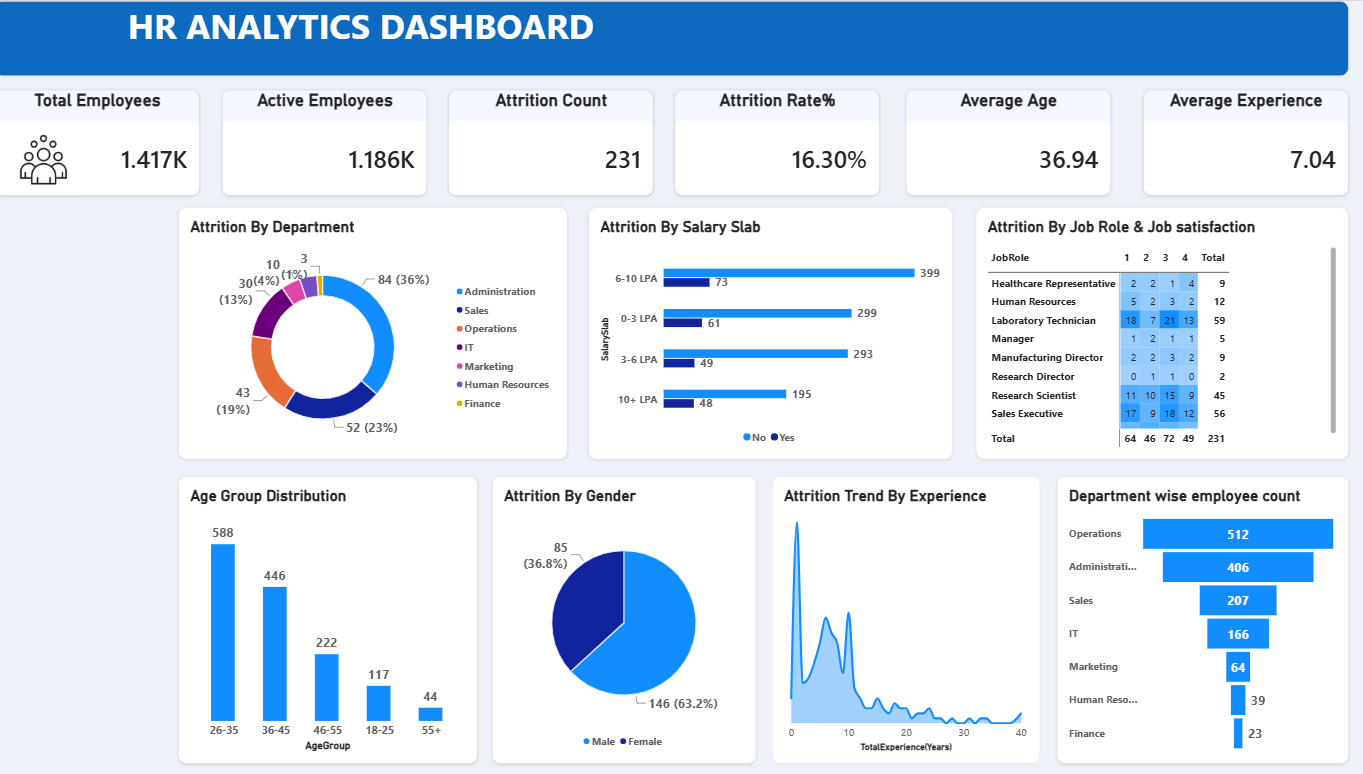

What the dashboard file says about the page in this screenshot:
{"tool":"powerbi","page":{"name":"Page 1","canvas":[1920,1080],"ordinal":0},"visuals":[{"type":"textbox","box":[10.3,0,1889.5,105],"z":0},{"type":"cardVisual","title":"Total Employees","fields":{"Data":["CountNonNull(HR_Analytics-4.EmpID)"]},"box":[10.3,123.5,286.1,148.2],"z":1000},{"type":"cardVisual","title":"Active Employees","fields":{"Data":["CountNonNull(HR_Analytics-4.EmployeeCount)"]},"box":[327.3,123.5,286.1,148.2],"z":2000},{"type":"cardVisual","title":"Attrition Count","fields":{"Data":["Sum(HR_Analytics-4.AttritionCount)"]},"box":[644.3,123.5,286.1,148.2],"z":3000},{"type":"cardVisual","title":"Attrition Rate%","fields":{"Data":["HR_Analytics-4.Attrition Rate%"]},"box":[959.2,123.5,286.1,148.2],"z":4000},{"type":"cardVisual","title":"Average Age","fields":{"Data":["Avg(HR_Analytics-4.Age)"]},"box":[1282.3,123.5,286.1,148.2],"z":5000},{"type":"cardVisual","title":"Average Experience","fields":{"Data":["Avg(HR_Analytics-4.YearsatCompany)"]},"box":[1613.7,123.5,286.1,148.2],"z":6000},{"type":"image","box":[28.8,170.8,98.8,100.9],"z":7000},{"type":"donutChart","title":"Attrition By Department","fields":{"Category":["HR_Analytics-4.Department"],"Y":["Sum(HR_Analytics-4.AttritionCount)"]},"box":[267.6,288.2,543.4,352],"z":8000},{"type":"clusteredBarChart","title":"Attrition By Salary Slab","fields":{"Category":["HR_Analytics-4.SalarySlab"],"Series":["HR_Analytics-4.Attrition"],"Y":["CountNonNull(HR_Analytics-4.EmpID)"]},"box":[839.8,288.2,508.4,352],"z":9000},{"type":"pivotTable","title":"Attrition By Job Role & Job satisfaction","fields":{"Columns":["HR_Analytics-4.JobSatisfaction"],"Rows":["HR_Analytics-4.JobRole"],"Values":["Sum(HR_Analytics-4.AttritionCount)"]},"box":[1379.1,288.2,520.8,352],"z":10000},{"type":"columnChart","title":"Age Group Distribution","fields":{"Category":["HR_Analytics-4.AgeGroup"],"Y":["Sum(HR_Analytics-4.EmployeeCount)"]},"box":[267.6,662.8,417.8,401.4],"z":11000},{"type":"pieChart","title":"Attrition By Gender","fields":{"Category":["HR_Analytics-4.Gender"],"Y":["Sum(HR_Analytics-4.AttritionCount)"]},"box":[703.9,662.8,368.4,401.4],"z":12000},{"type":"areaChart","title":"Attrition Trend By Experience","fields":{"Category":["HR_Analytics-4.TotalExperience(Years)"],"Y2":["Sum(HR_Analytics-4.AttritionCount)"]},"box":[1095,662.8,374.6,401.4],"z":13000},{"type":"funnel","title":"Department wise employee count","fields":{"Category":["HR_Analytics-4.Department"],"Y":["CountNonNull(HR_Analytics-4.EmpID)"]},"box":[1492.3,662.8,407.5,401.4],"z":13001}]}

Visuals, with their boxes in screenshot pixels (x1, y1, x2, y2), scaled from the page's 1920x1080 canvas onto the 1363x774 screenshot:
textbox: <region>7, 0, 1349, 75</region>
"Total Employees" cardVisual: <region>7, 89, 210, 195</region>
"Active Employees" cardVisual: <region>232, 89, 435, 195</region>
"Attrition Count" cardVisual: <region>457, 89, 660, 195</region>
"Attrition Rate%" cardVisual: <region>681, 89, 884, 195</region>
"Average Age" cardVisual: <region>910, 89, 1113, 195</region>
"Average Experience" cardVisual: <region>1146, 89, 1349, 195</region>
image: <region>20, 122, 91, 195</region>
"Attrition By Department" donutChart: <region>190, 207, 576, 459</region>
"Attrition By Salary Slab" clusteredBarChart: <region>596, 207, 957, 459</region>
"Attrition By Job Role & Job satisfaction" pivotTable: <region>979, 207, 1349, 459</region>
"Age Group Distribution" columnChart: <region>190, 475, 487, 763</region>
"Attrition By Gender" pieChart: <region>500, 475, 761, 763</region>
"Attrition Trend By Experience" areaChart: <region>777, 475, 1043, 763</region>
"Department wise employee count" funnel: <region>1059, 475, 1349, 763</region>
